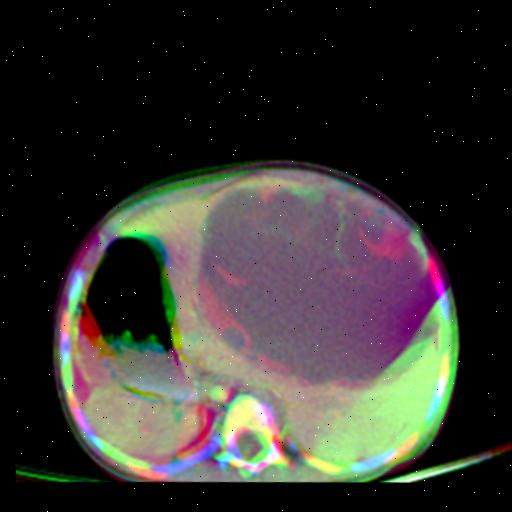Tumor: (200, 186, 300, 284)
